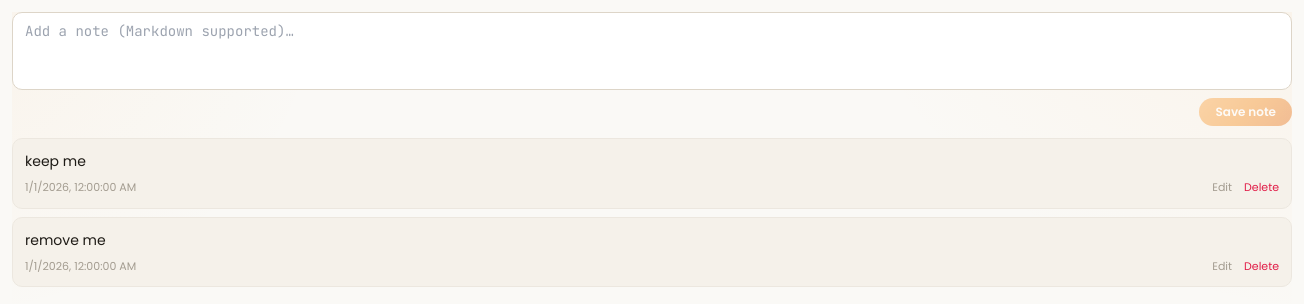
Scenario: NotesThread — deleting › only deletes the note whose button was clicked
The image size is (1304, 304).
expect the text "remove me" is shown: met, box [25,230,106,250]
Click the 2nd button "Delete".
click(1262, 266)  # box [1244,258,1279,274]
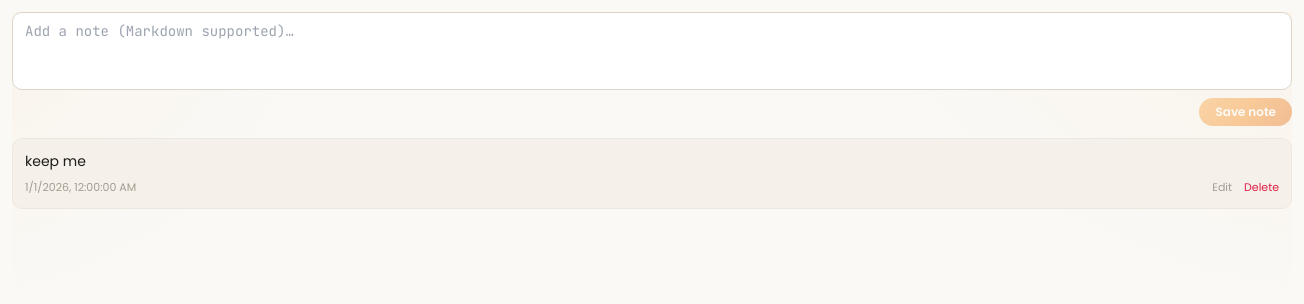
expect the text "keep me" is shown: met, box [25,151,86,171]
expect the text "remove me" is gone: met
